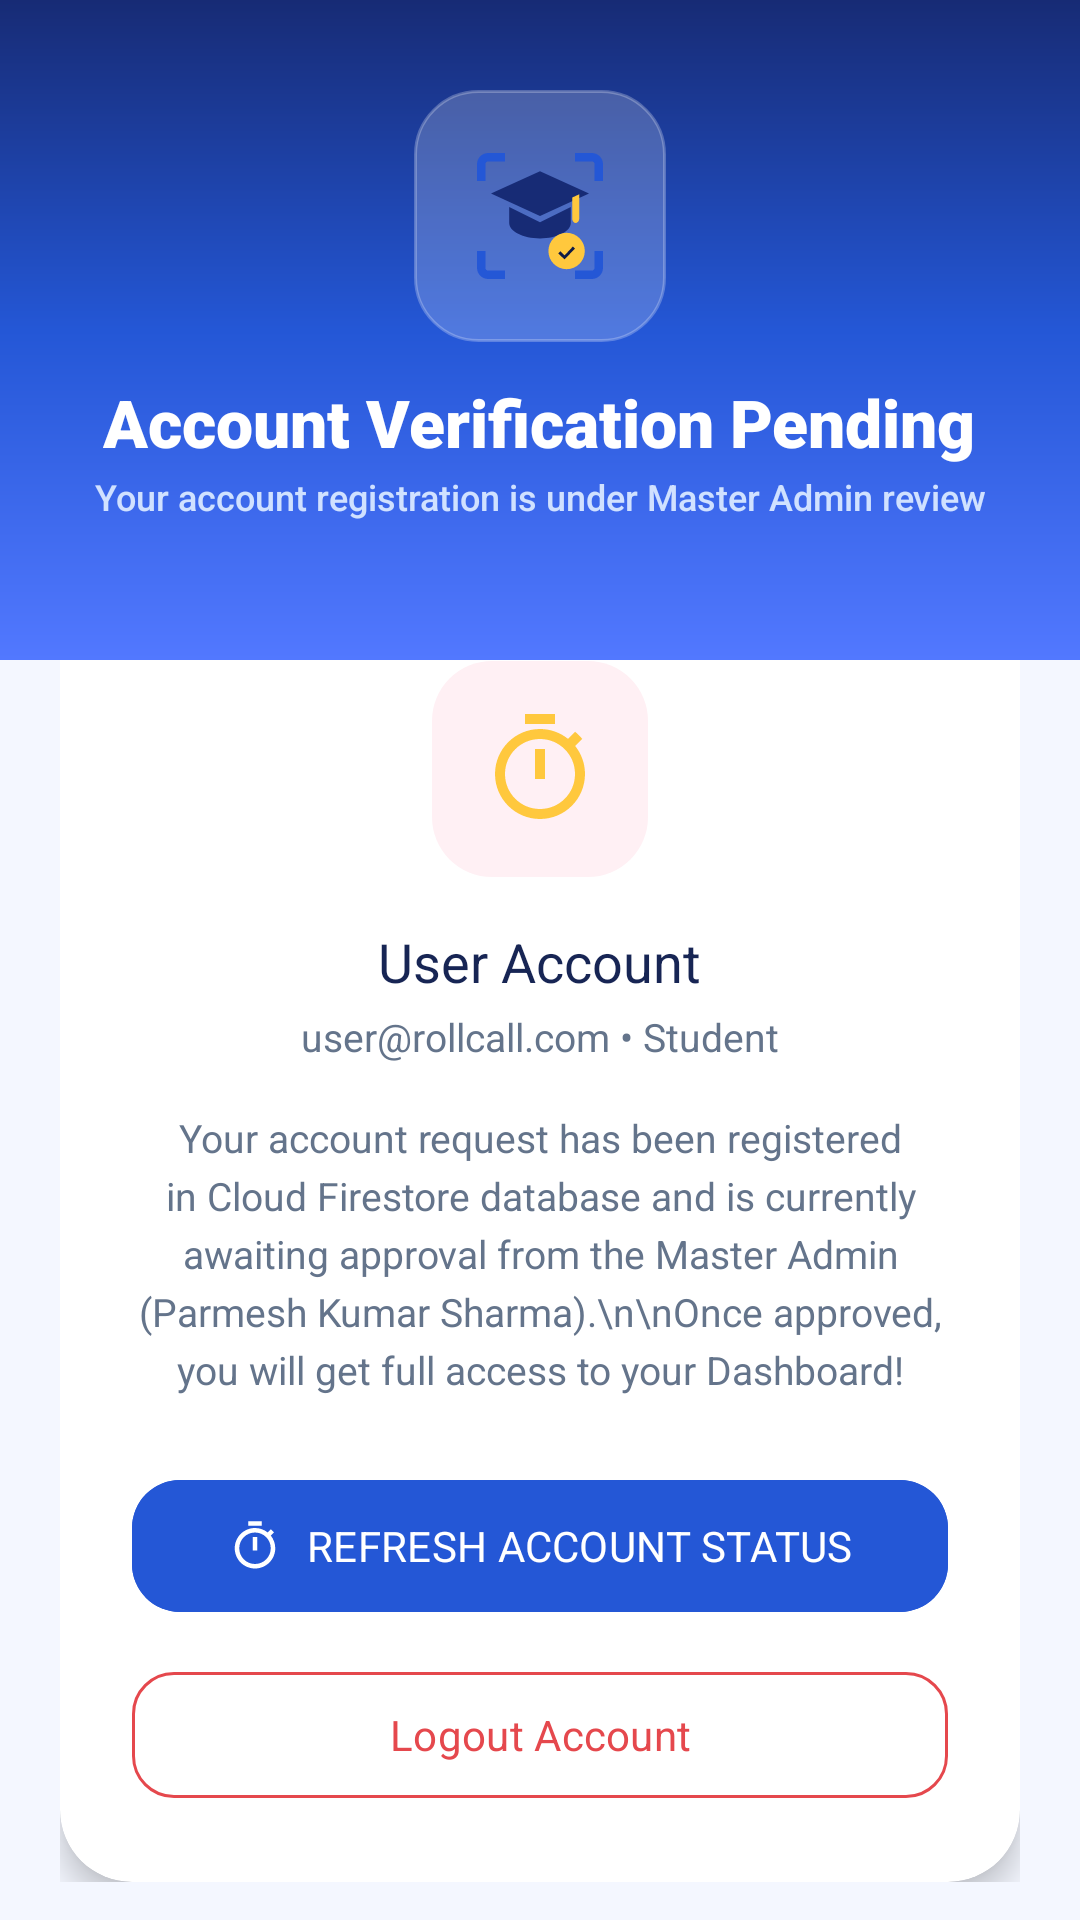

Named icons in this screenshot (1080px×1920px) and their bounding boxes, rect(x1, y1, x2, y2):
Pending Icon: rect(432, 661, 648, 877)
